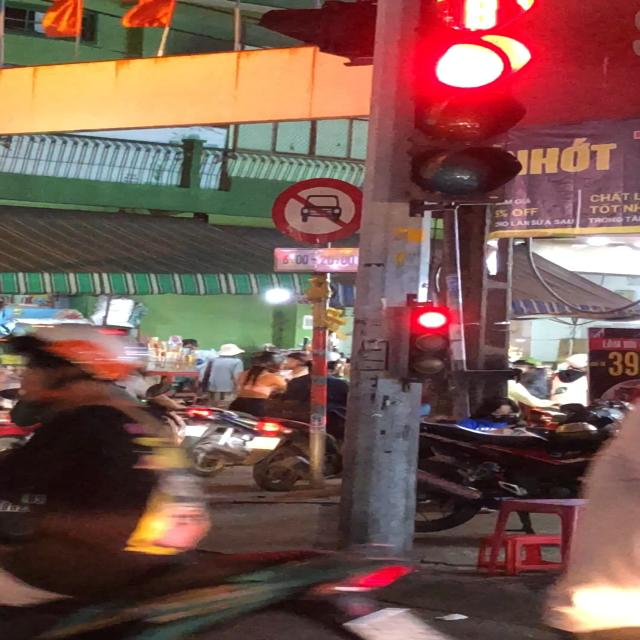Bien bao cam xe oto: (267, 176, 367, 247)
